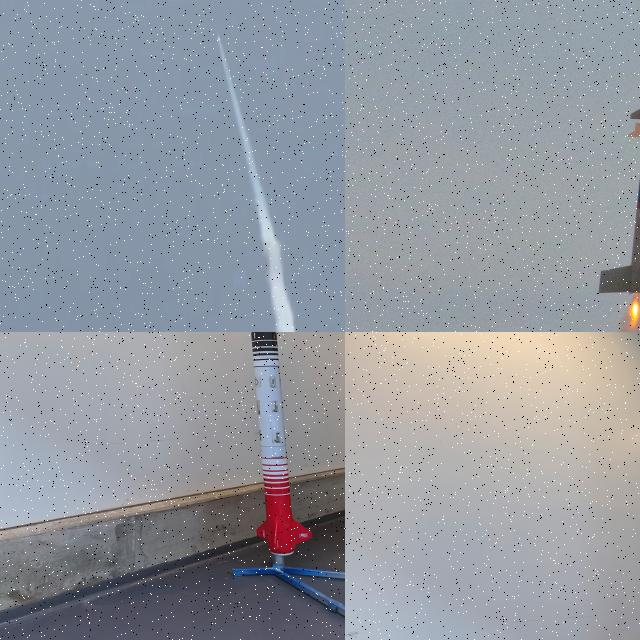Rocket: (251, 332, 312, 556), (597, 77, 640, 297), (217, 32, 220, 41)
